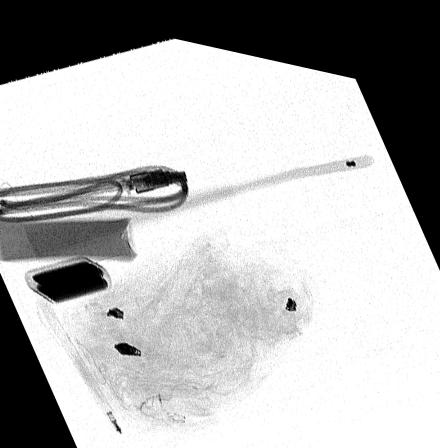Powerbank: (22, 251, 111, 302)
